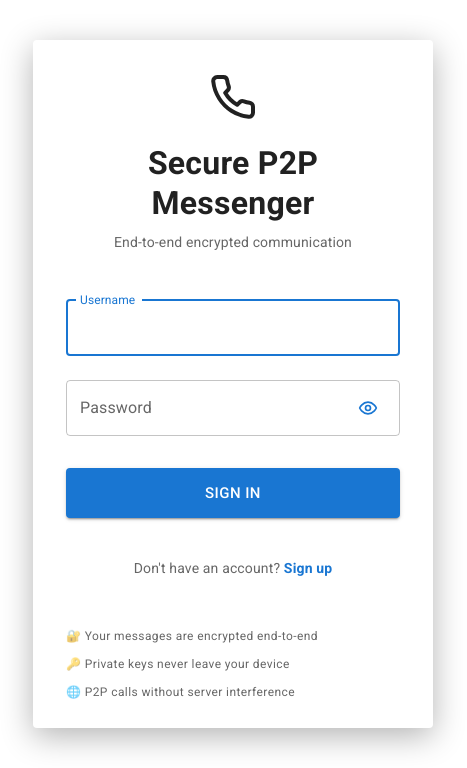
Scenario: LoginForm › shows validation error for short username
Type "ab" into the field labelled "Username" at (233,328), box [66,300,400,356]
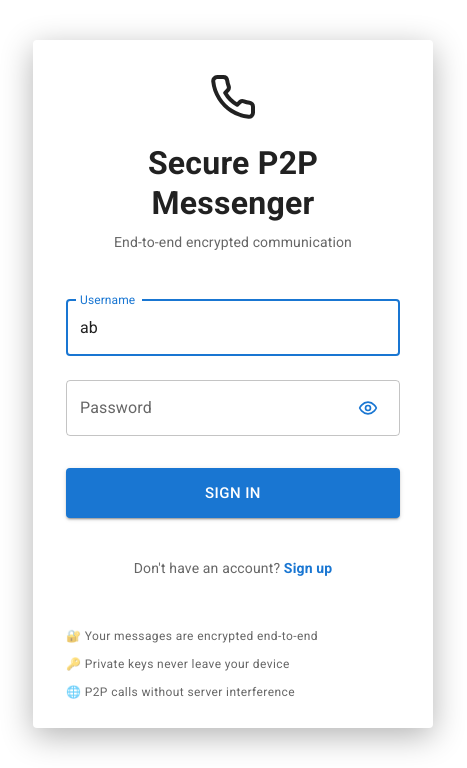
Click the button "Sign In" at (233,493), box [66,468,400,518]
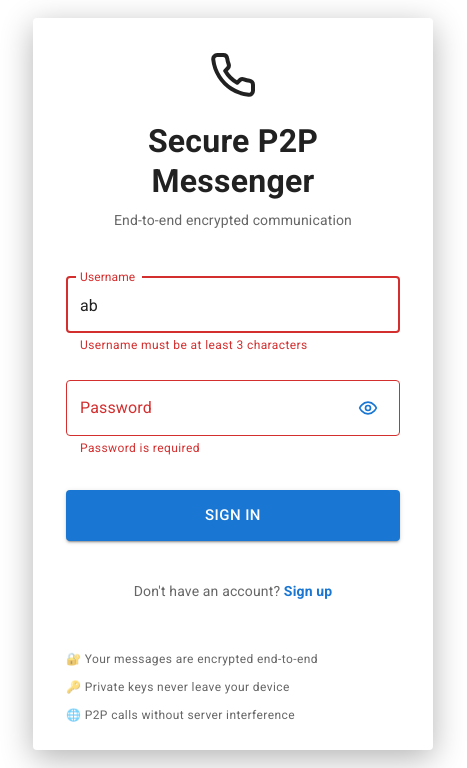
Expected: the text "Username must be at least 3 characters" is shown, [80,338,308,352]
